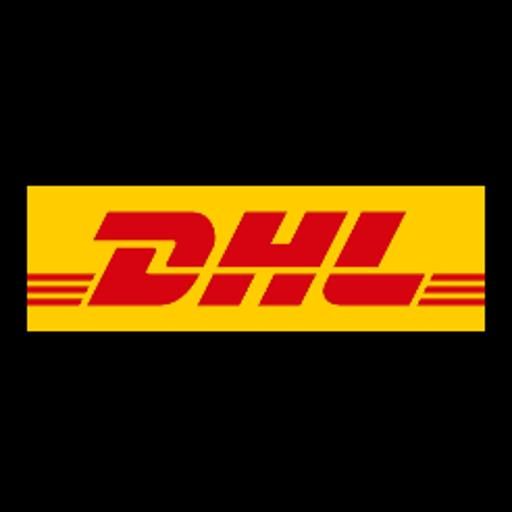DHL: (0, 163, 512, 348)
